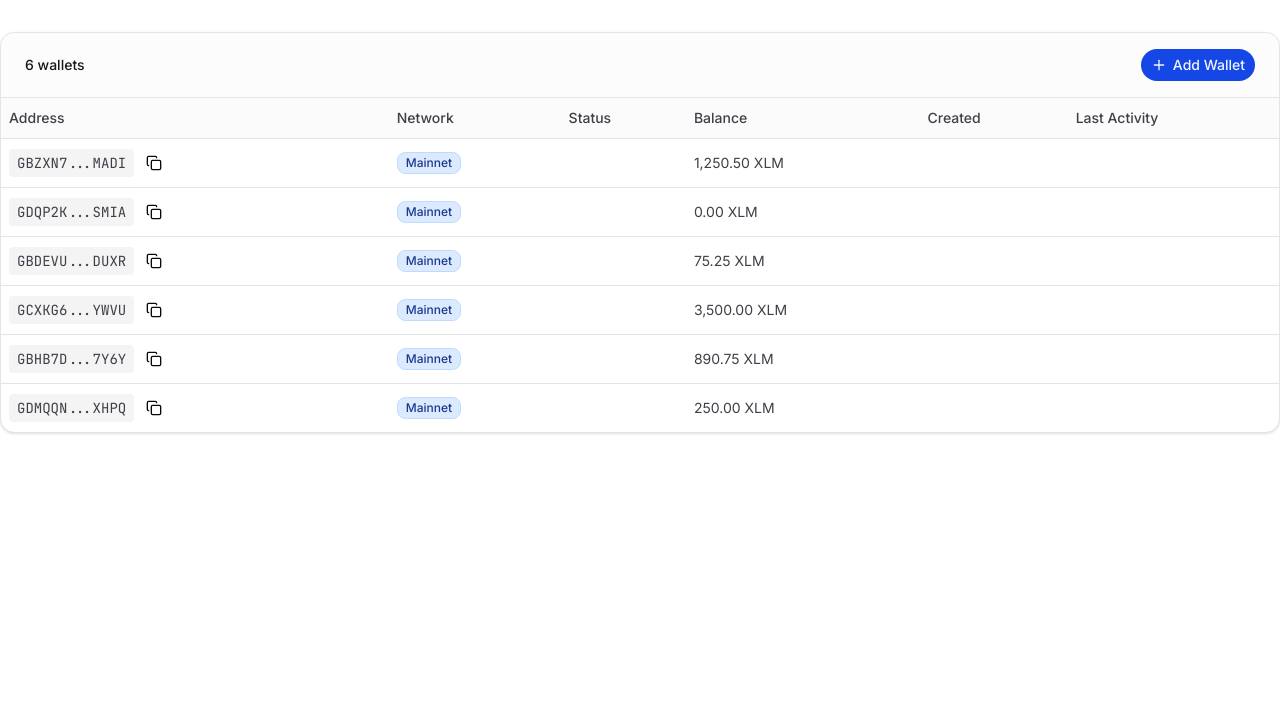
WalletsPage (/demo/dashboard/wallets) › copy toast feedback › dismisses the toast when the dismiss button is clicked
The image size is (1280, 720).
Expected: the table is shown, 1,98 -> 1279,432
Click the button titled "Copy address" next to "GBZXN7...MADI" at (154, 162), box 138,146 -> 170,178
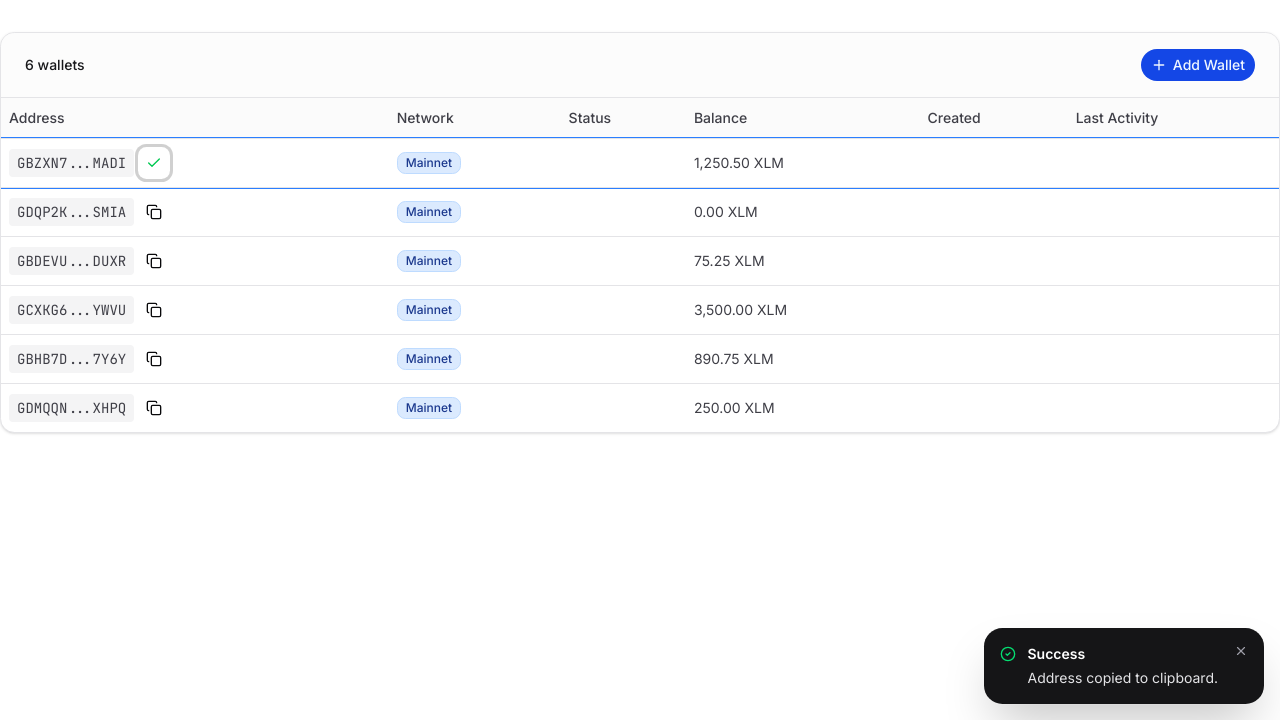
Expected: the message "Success Address copied to clipboard." is shown, 1000,644 -> 1248,688
Click the button named "dismiss notification" at (1241, 651), box 1230,640 -> 1252,662
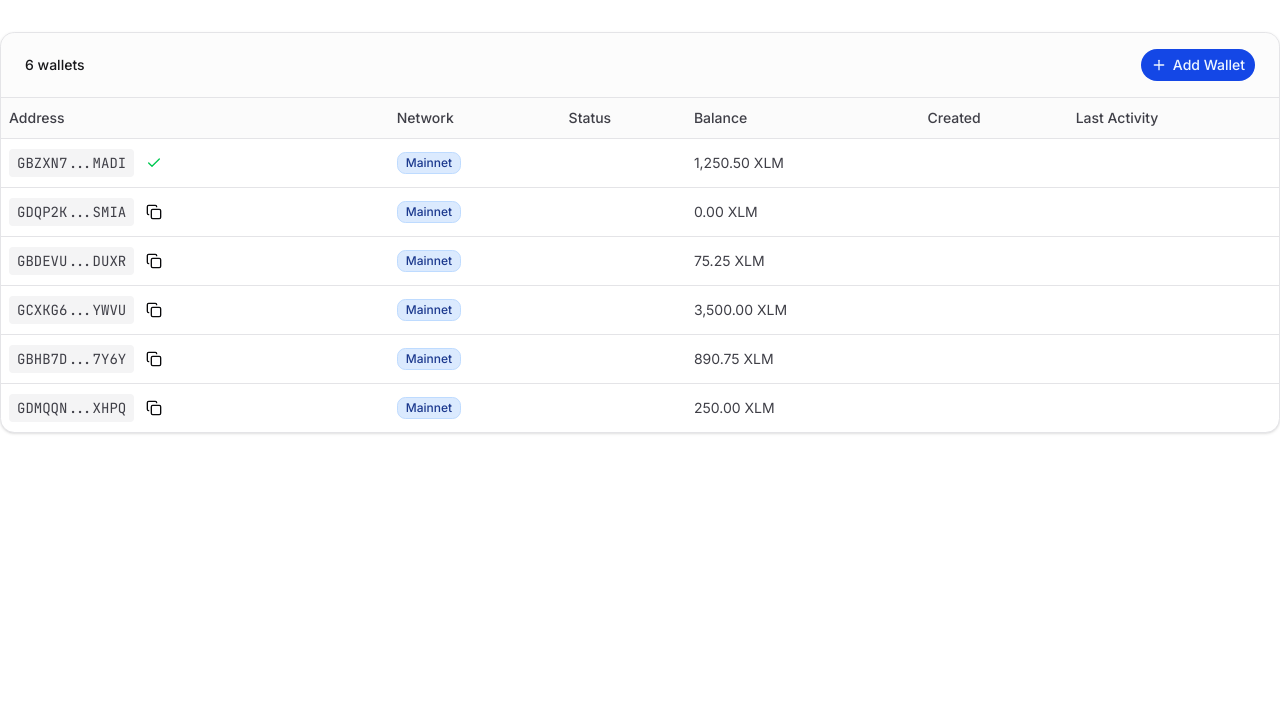
Expected: the message "Success Address copied to clipboard." is gone
